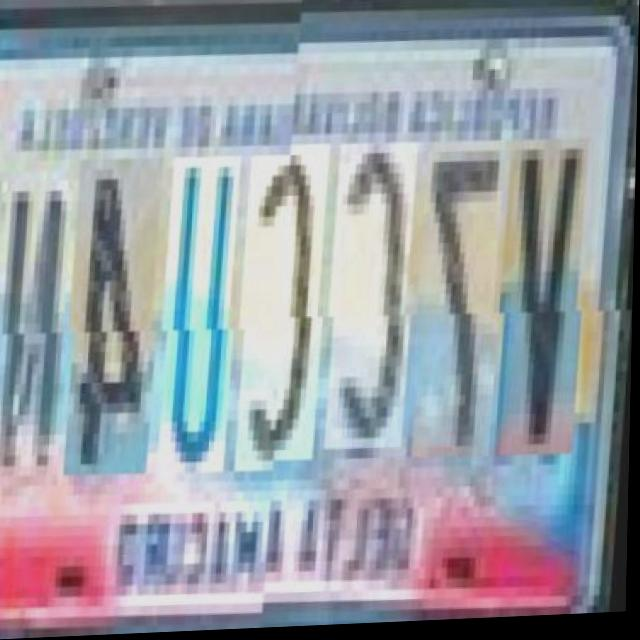4: (66, 160, 167, 480)
7: (412, 154, 509, 474)
c: (236, 157, 331, 476), (325, 156, 420, 466)
n: (0, 172, 78, 492)
u: (159, 159, 244, 478)
v: (497, 153, 592, 473)
